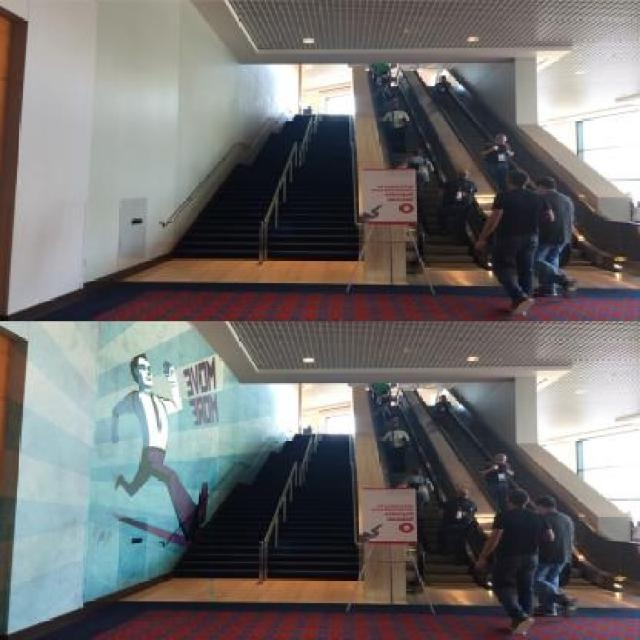stair: (431, 403, 592, 586), (429, 88, 588, 268), (178, 110, 362, 262), (183, 428, 363, 578), (372, 400, 480, 589), (380, 77, 486, 269)
